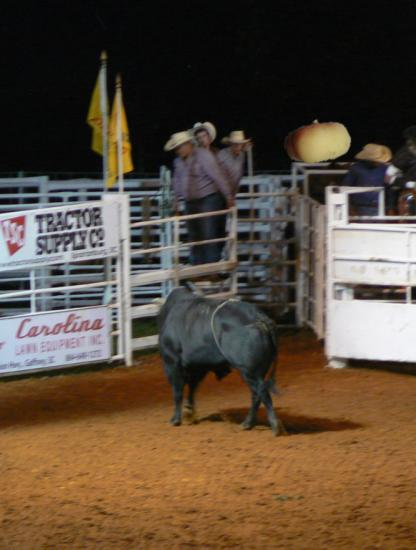Peach: (285, 110, 351, 176)
